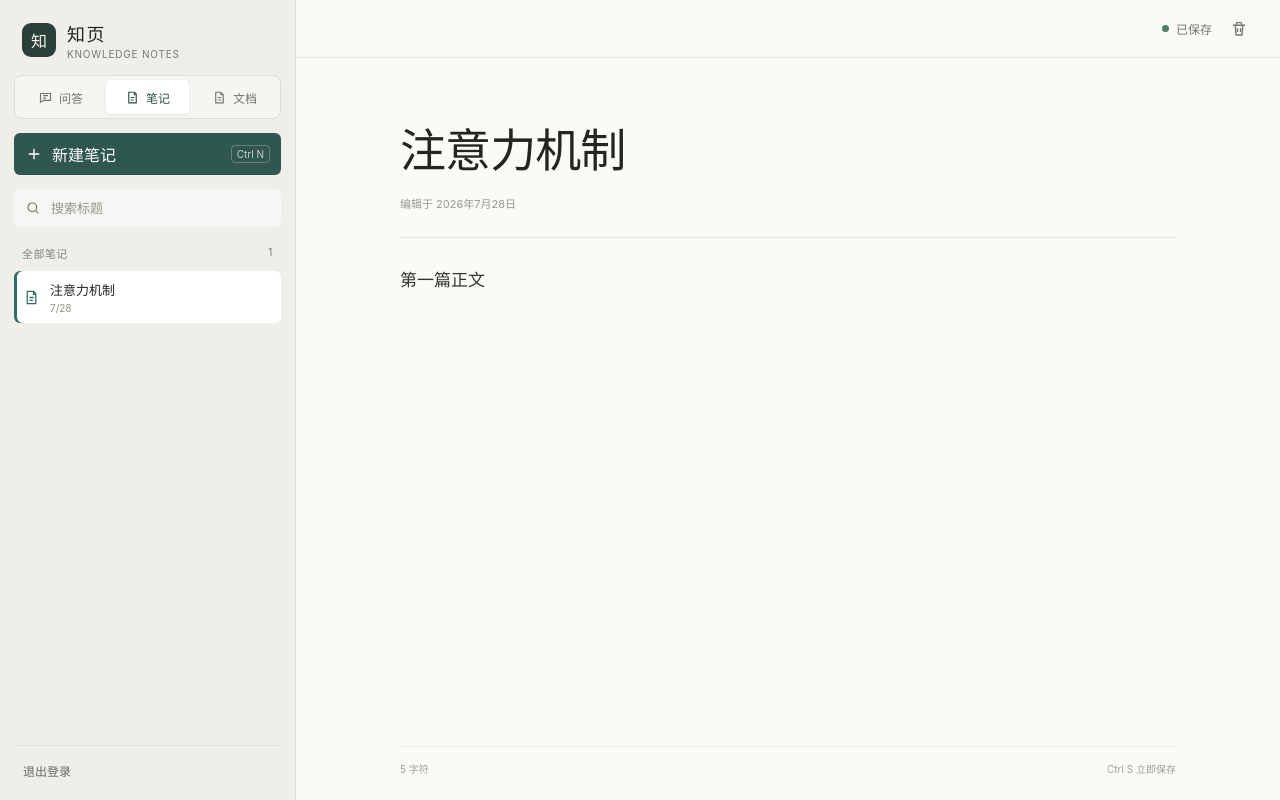
NotesWorkspace 导航前保存 › 保存返回 500 时保留笔记页并展示 保存失败
Replace the text in the text box showing "第一篇正文" with "不能丢失的本地正文" at (788, 490), box [400,265,1176,716]
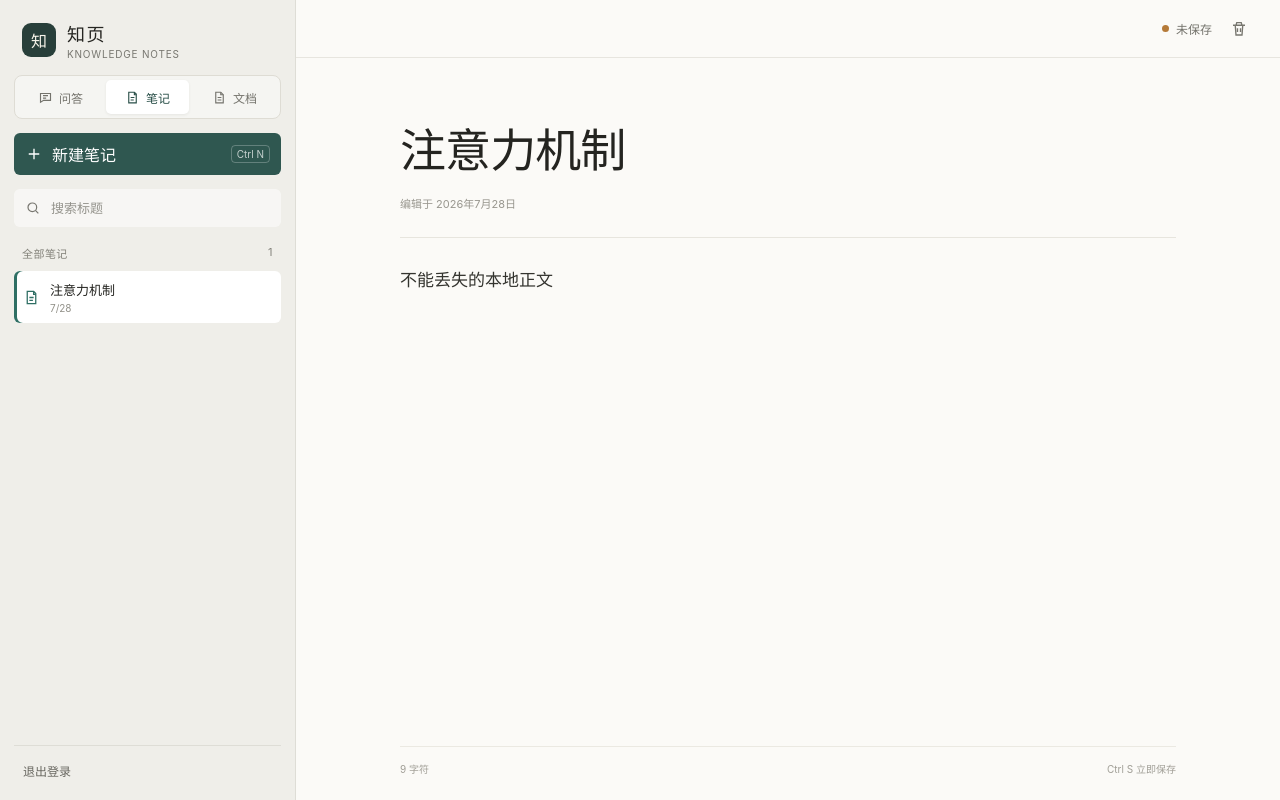
Click the button "问答".
click(60, 97)  # box [19,80,102,114]
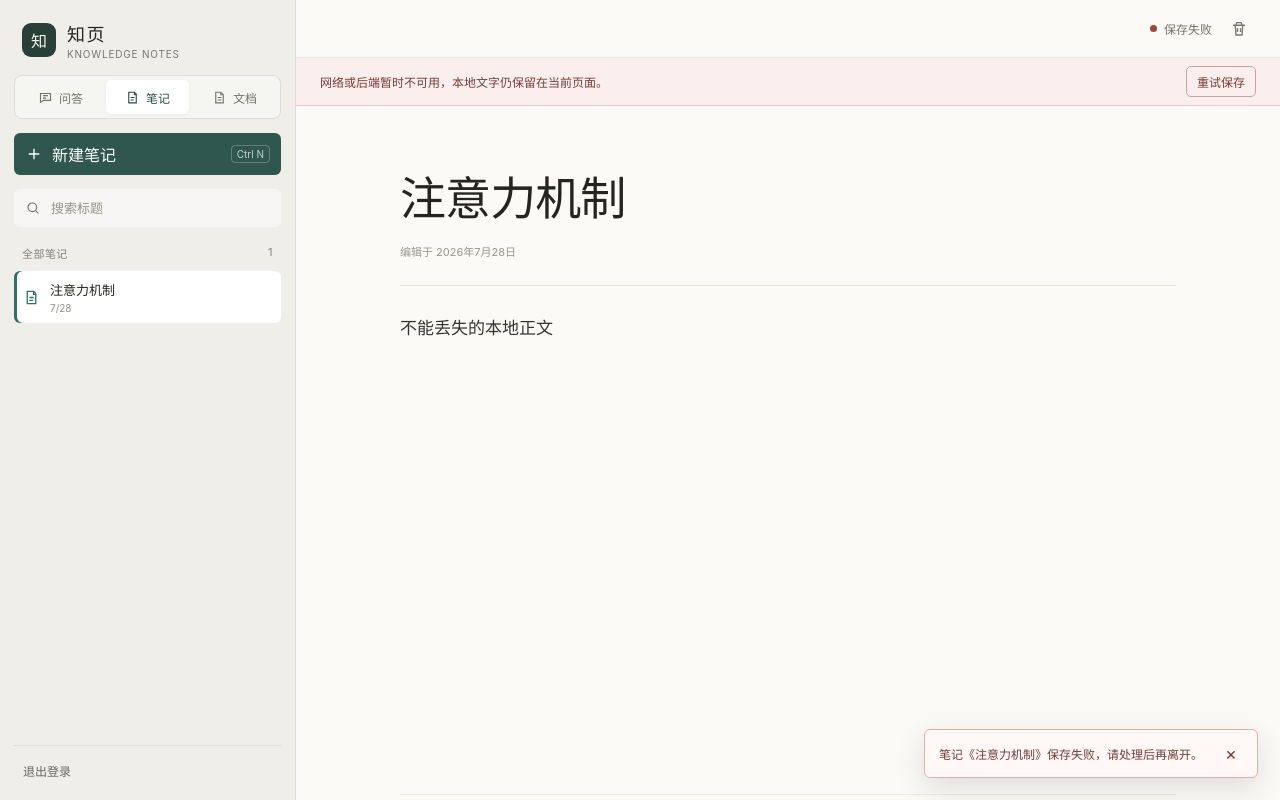
Now the text "保存失败" is shown, box [1150,20,1212,37]
Now the text "网络或后端暂时不可用，本地文字仍保留在当前页面。" is shown, box [320,73,608,90]
